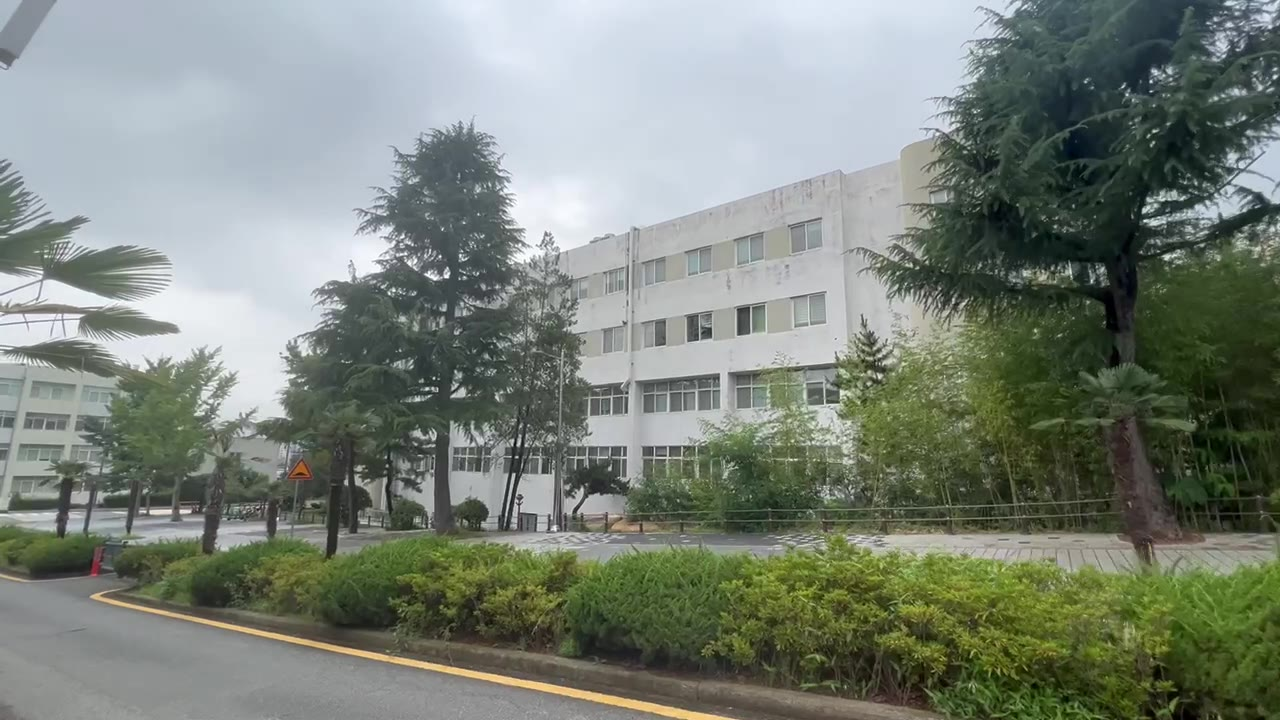low: (591, 191, 832, 436)
